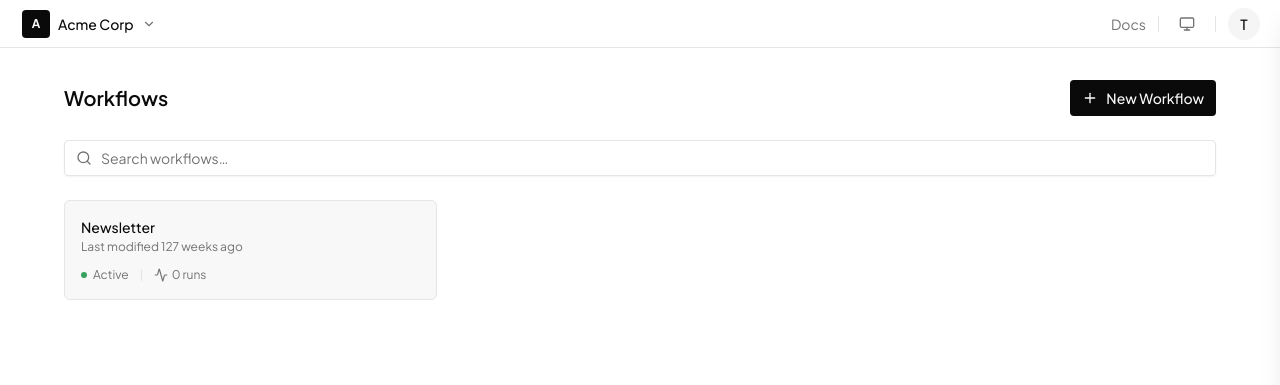
Scenario: DashboardPage › shows a no-match message when search has no results
The width and height of the screenshot is (1280, 385).
Expected: the heading "Newsletter" is shown, x1=81 y1=218 x2=155 y2=236
In the field with placeholder "Search workflows…": [640, 158] box x1=64 y1=140 x2=1216 y2=176, type "zzz"
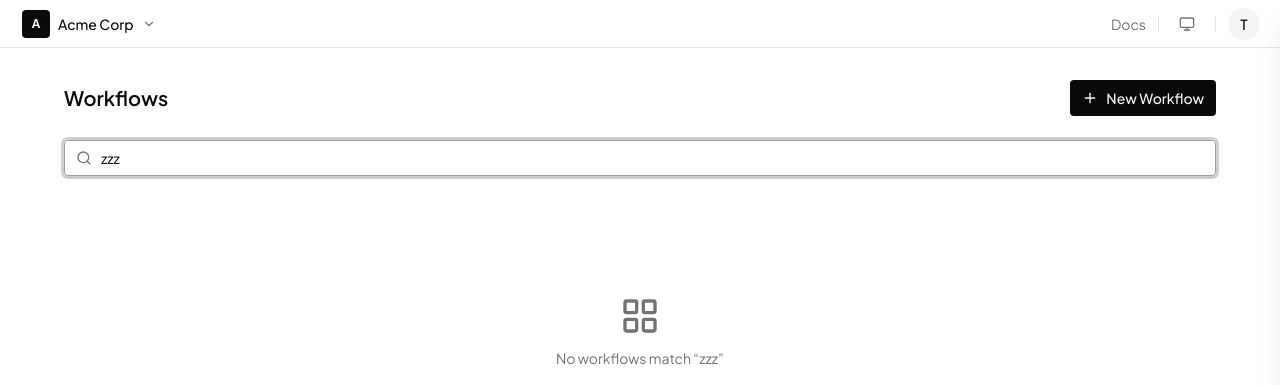
Expected: the text "No workflows match “zzz”" is shown, x1=556 y1=348 x2=724 y2=368
